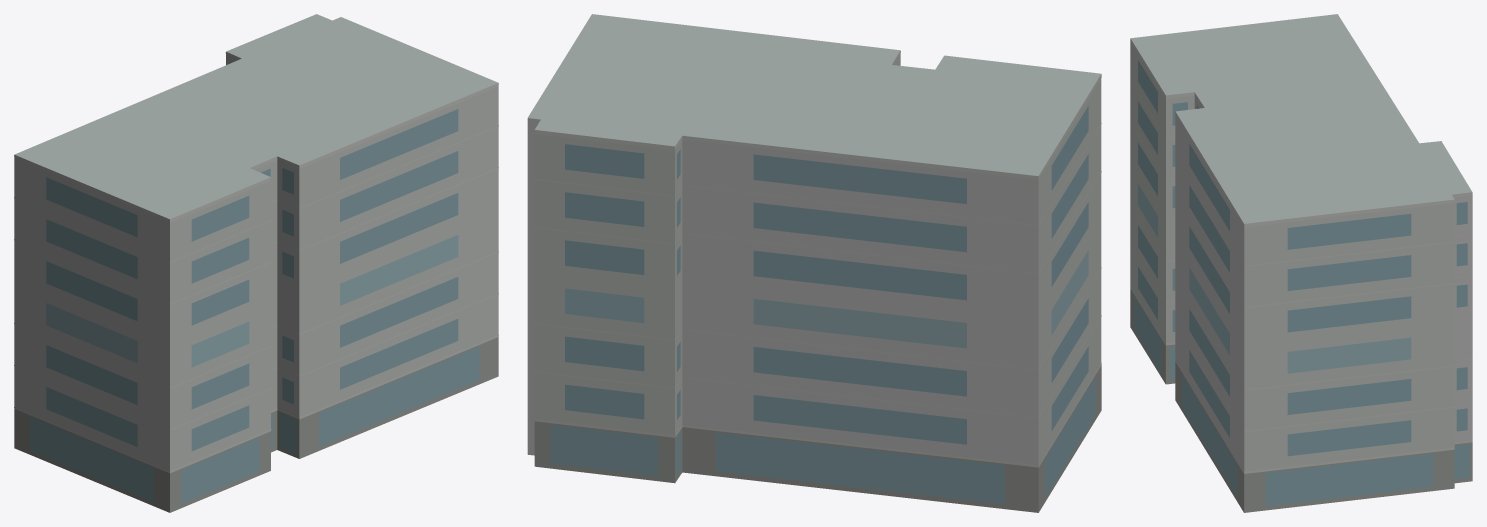
File: survey-upis-32688701.glb
3 views of the same model, side by side, from view 1: azimuth 30°, elevation 25°; view 2: azimuth 150°, elevation 25°; view 3: azimuth 270°, elevation 25° (orthographic). The views are drawn at different scales.
Visible parts, largest first — view 1: survey-upis-32688701.tmp; view 2: survey-upis-32688701.tmp; view 3: survey-upis-32688701.tmp.
Part boxes in pixels (box(x1,y1,x2,y2)): survey-upis-32688701.tmp: box(14, 14, 498, 512); survey-upis-32688701.tmp: box(527, 14, 1101, 512); survey-upis-32688701.tmp: box(1130, 14, 1472, 512).
Size of the model in its own units: 31.33 by 20.1 by 21.59.
